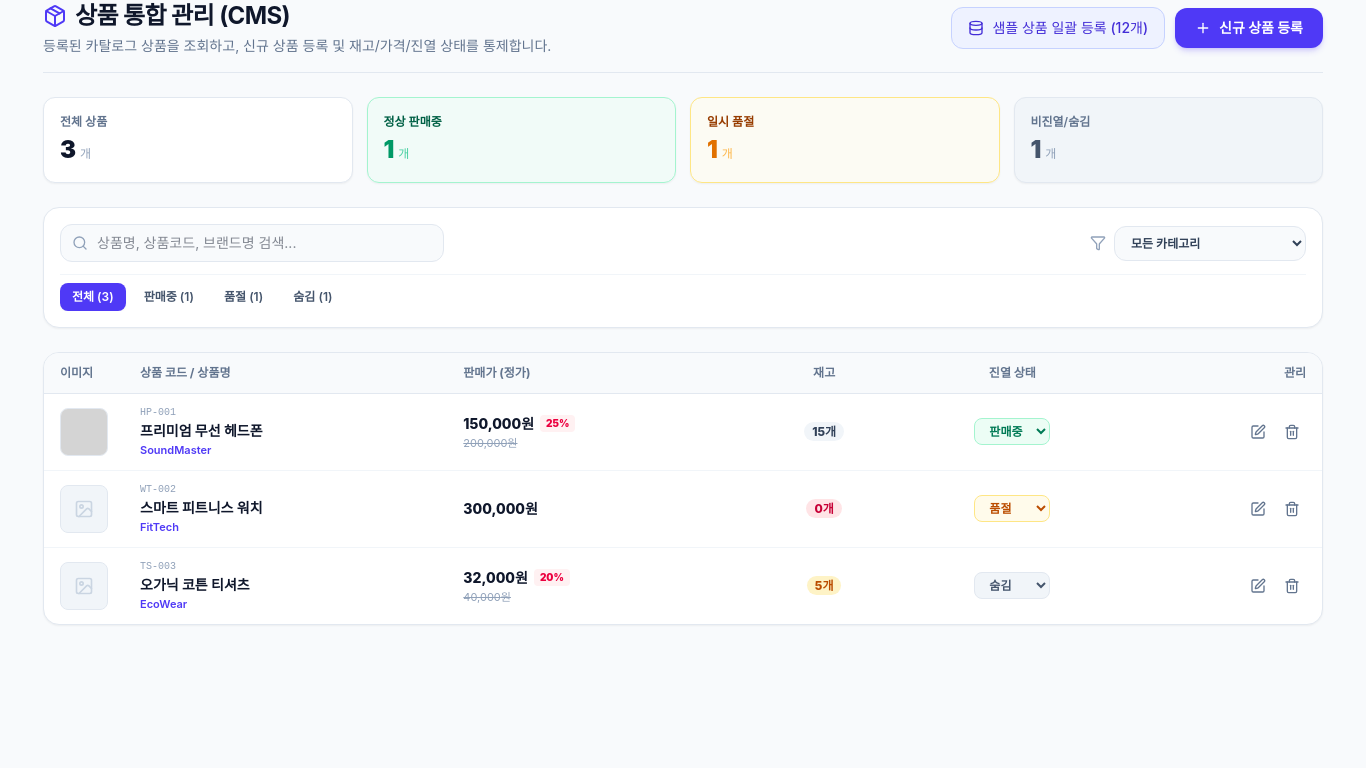
Test case: AdminProductListViewer Component › 신규 상품 등록 버튼을 누르면 모달이 열린다
Step 1. Click the button "신규 상품 등록" → x=1249, y=28, box [1175, 8, 1323, 48]
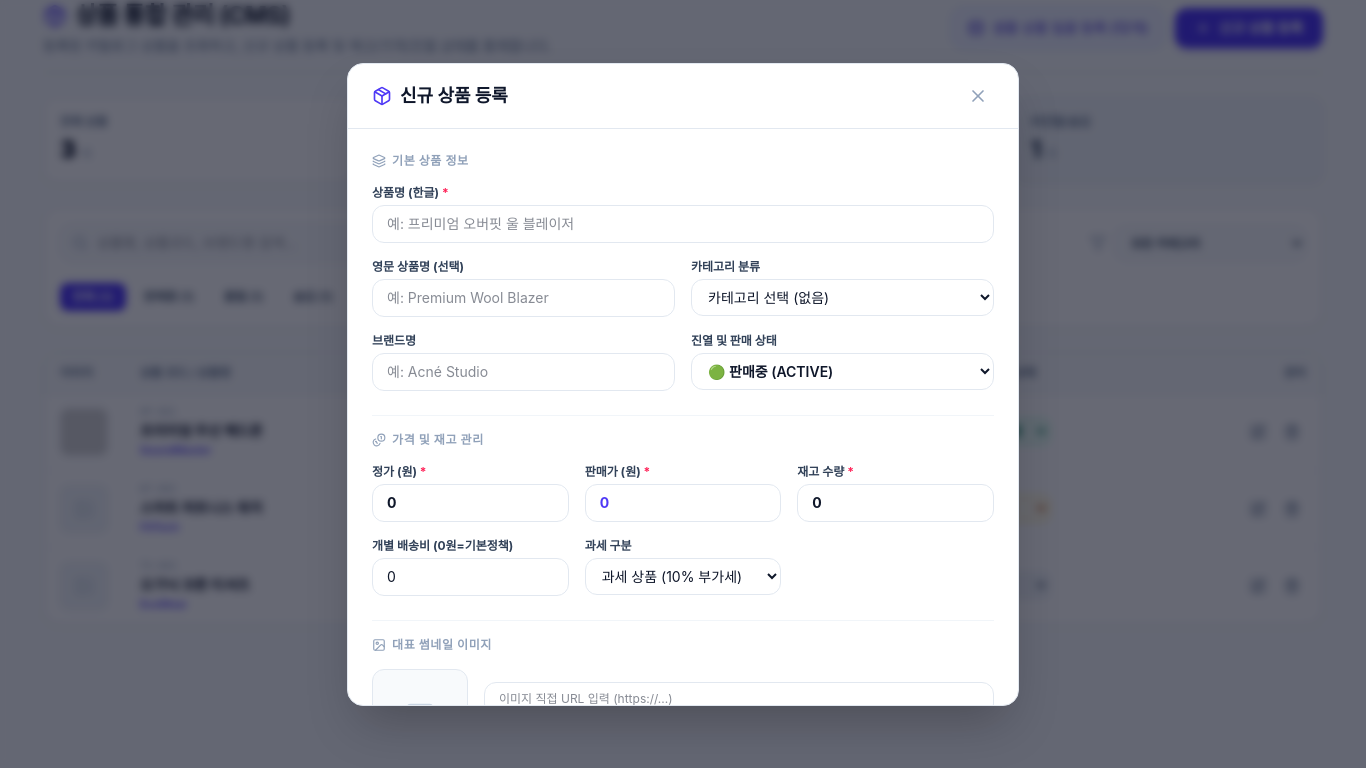
Expected: the heading "신규 상품 등록" is shown, [400, 82, 508, 110]
